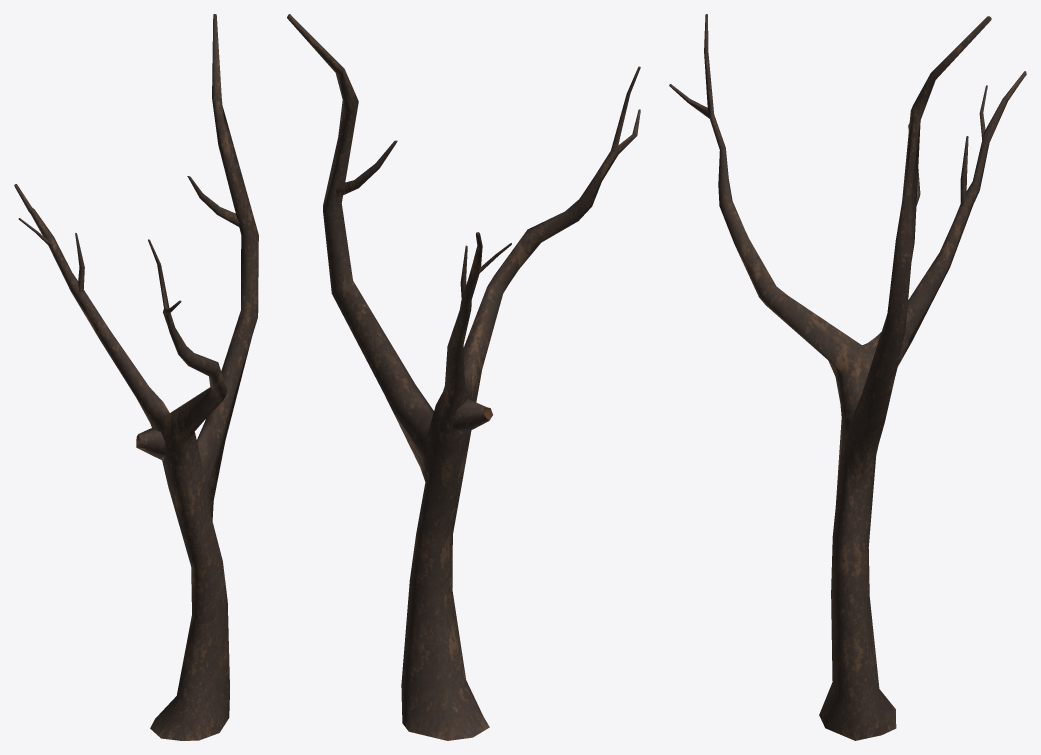
File: sb_obj_nature013_DryTree_B.fbx
3 renders of one model, left to right at view 1: azimuth 30°, elevation 25°; view 2: azimuth 150°, elevation 25°; view 3: azimuth 270°, elevation 25°, orthographic. The views are drawn at different scales.
Parts seen in each view (by area): view 1: sb_obj_outdoor052_DryTree_B; view 2: sb_obj_outdoor052_DryTree_B; view 3: sb_obj_outdoor052_DryTree_B.
Part boxes in pixels (x1=…): sb_obj_outdoor052_DryTree_B: x1=14, y1=14, x2=258, y2=740; sb_obj_outdoor052_DryTree_B: x1=287, y1=14, x2=640, y2=740; sb_obj_outdoor052_DryTree_B: x1=669, y1=14, x2=1026, y2=740.
Bounding box in the file's own units: 0.9745 × 2.97 × 1.29.
1 material, 1 textured.
